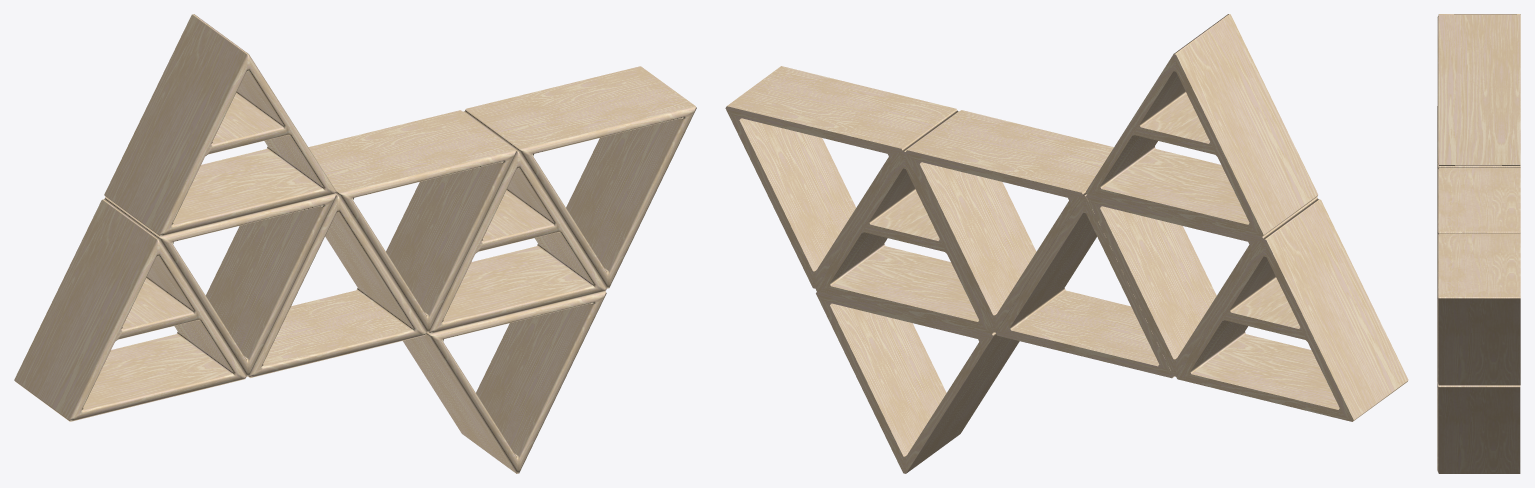
Rendered from shelf_016.fbx.
The picture shows the model from 3 angles, left to right: view 1: azimuth 30°, elevation 25°; view 2: azimuth 150°, elevation 25°; view 3: azimuth 270°, elevation 25°; orthographic projection. The views are drawn at different scales.
Parts seen in each view (by area): view 1: shelf_016; view 2: shelf_016; view 3: shelf_016.
Part boxes in pixels (x1,y1,x2,y2): shelf_016: [14, 14, 696, 473]; shelf_016: [725, 14, 1408, 473]; shelf_016: [1437, 14, 1520, 473].
Size of the model in its own units: 251 by 38.71 by 185.
